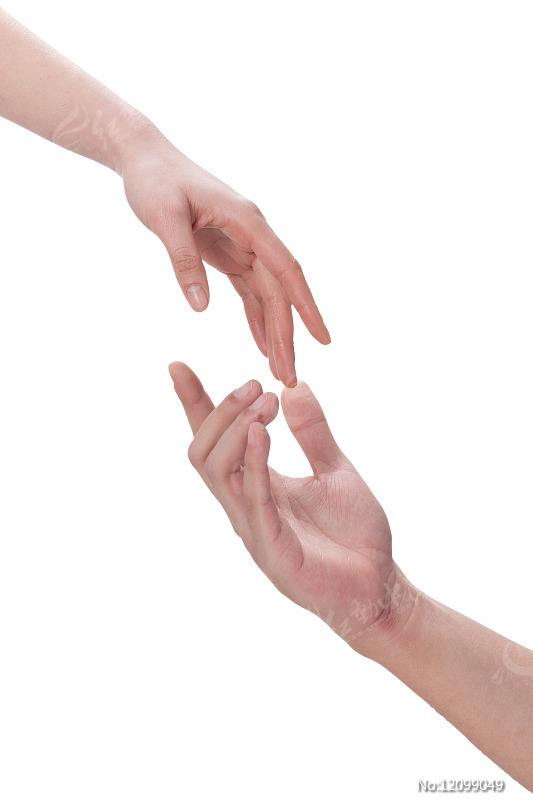no-phone: (166, 358, 402, 642), (119, 143, 335, 390)
